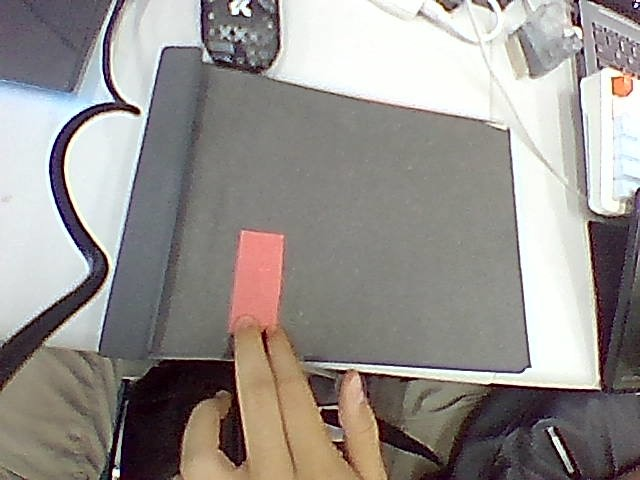card: (230, 231, 283, 331)
